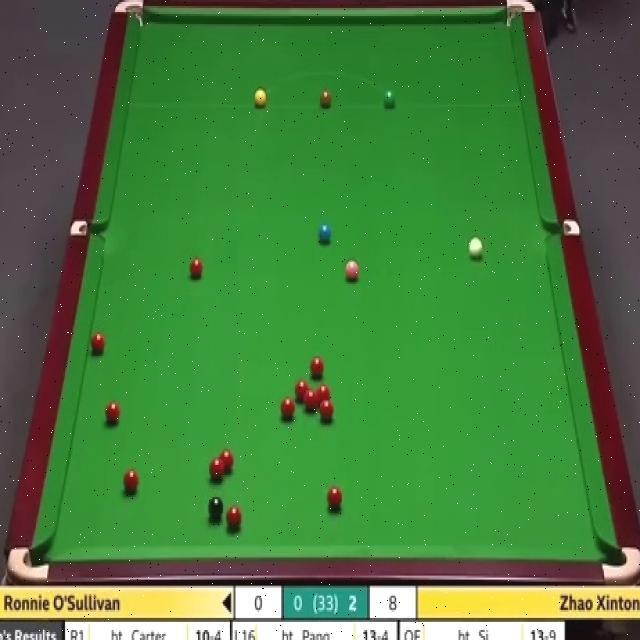black-ball: (208, 497, 225, 524)
blue-ball: (318, 221, 332, 245)
brown-ball: (320, 87, 332, 108)
green-ball: (383, 91, 396, 110)
pink-ball: (346, 259, 360, 281)
red-ball: (326, 485, 344, 512), (122, 468, 140, 495), (225, 506, 241, 533), (89, 332, 105, 358), (106, 398, 120, 426), (210, 457, 226, 481), (219, 447, 234, 472), (281, 397, 296, 421), (310, 356, 324, 381), (294, 379, 308, 402), (190, 256, 203, 278), (320, 401, 333, 422), (317, 386, 330, 406), (304, 389, 317, 408)
white-ball: (468, 236, 483, 262)
yellow-ball: (254, 89, 266, 109)
